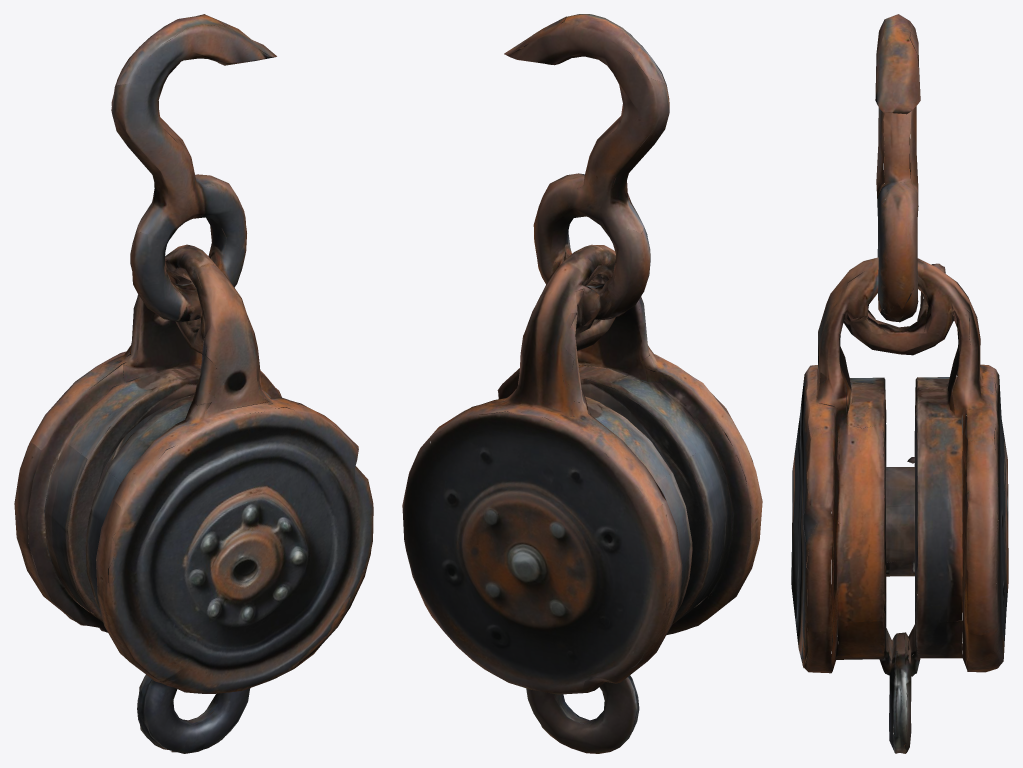
The model's file is pulley_nautical.glb.
3 views of the same model, side by side, from view 1: azimuth 30°, elevation 25°; view 2: azimuth 150°, elevation 25°; view 3: azimuth 270°, elevation 25° (orthographic).
Visible parts, largest first — view 1: Mesh1_Material_0.001_0; view 2: Mesh1_Material_0.001_0; view 3: Mesh1_Material_0.001_0.
Boxes of the visible parts, <box> form: Mesh1_Material_0.001_0: <box>14,14,373,753</box>; Mesh1_Material_0.001_0: <box>402,14,762,753</box>; Mesh1_Material_0.001_0: <box>791,14,1008,753</box>.
Bounding box in the file's own units: 0.7704 × 2 × 0.5456.
1 material, 1 textured.
